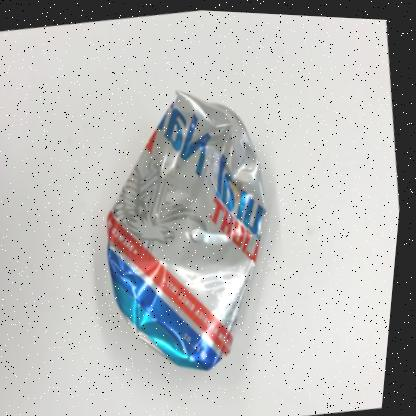Metal: (110, 87, 268, 367)
